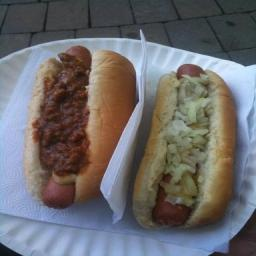hotdog: (24, 44, 137, 220), (132, 64, 235, 230)
